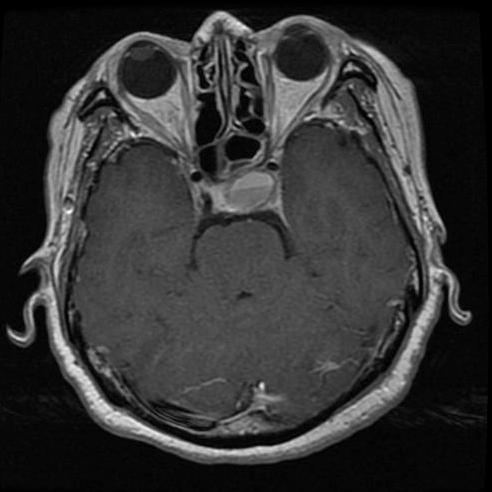Tumour-Pituitary: (189, 169, 287, 223)
